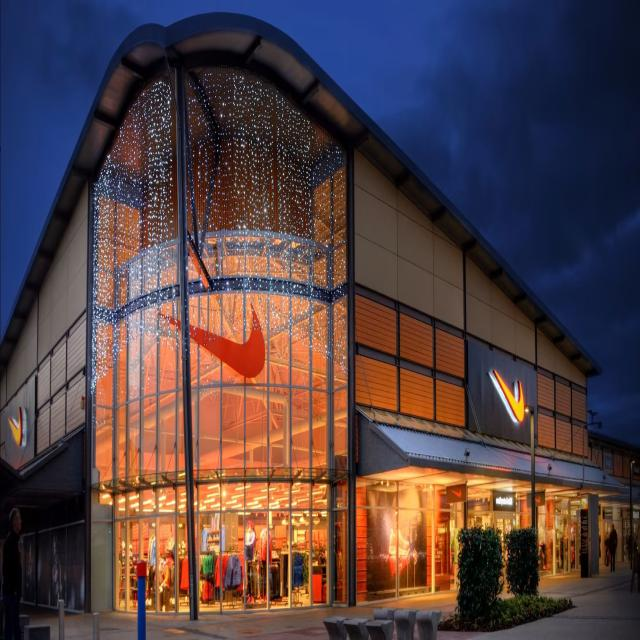nike: (144, 303, 272, 385), (480, 361, 534, 427)
